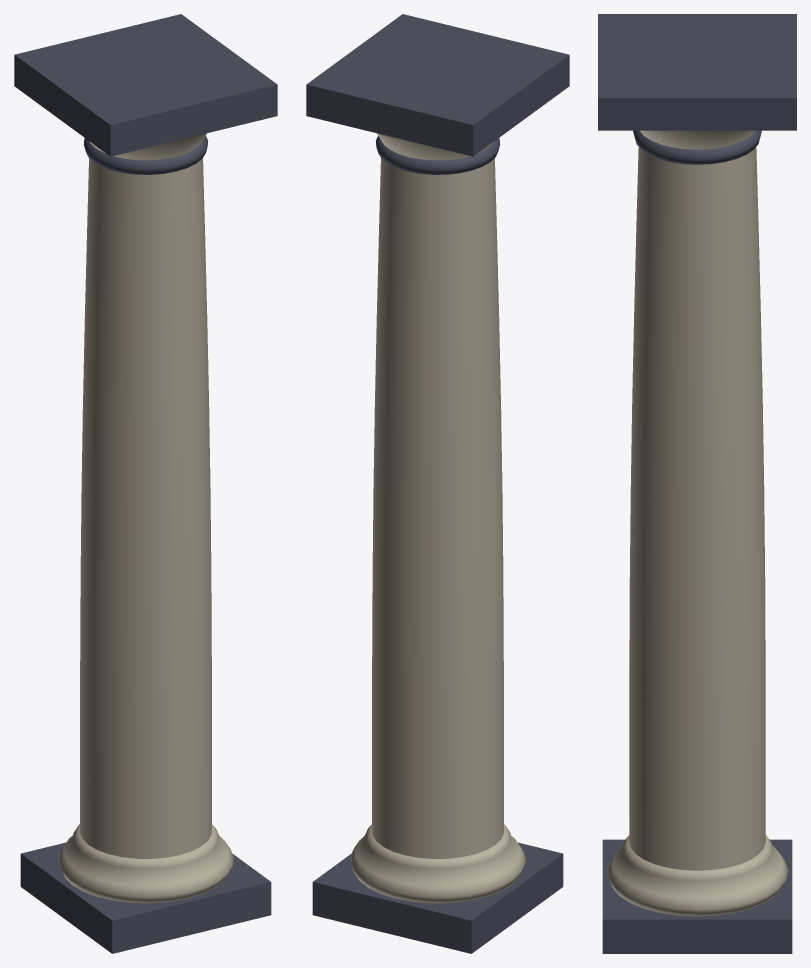
The model's file is column.glb.
3 renders of one model, left to right at view 1: azimuth 30°, elevation 25°; view 2: azimuth 150°, elevation 25°; view 3: azimuth 270°, elevation 25°, orthographic. The views are drawn at different scales.
Visible parts, largest first — view 1: Column; view 2: Column; view 3: Column.
Boxes of the visible parts, x1=… form: Column: x1=14, y1=14, x2=277, y2=953; Column: x1=306, y1=14, x2=569, y2=953; Column: x1=598, y1=14, x2=796, y2=953.
Bounding box in the file's own units: 2.1 × 10 × 2.1.
